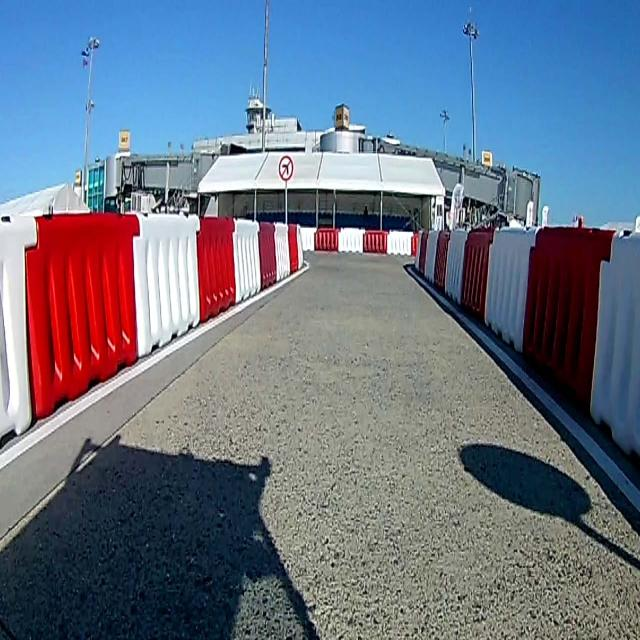soladonulmez: (278, 156, 293, 182)
